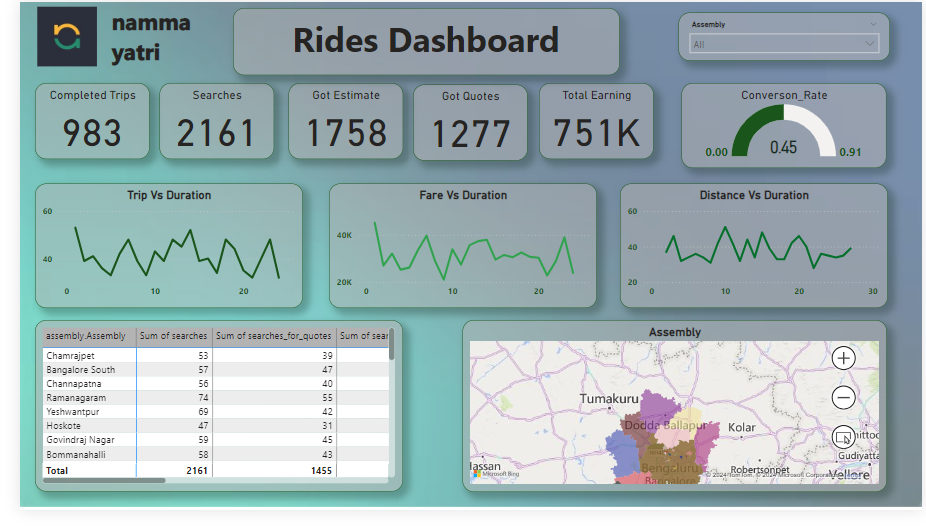

The page's visual inventory and layout, read from the dashboard file:
{"tool":"powerbi","page":{"name":"Page 1","canvas":[1280,720],"ordinal":0},"visuals":[{"type":"card","title":"Completed Trips","fields":{"Values":["Sum(trip_details.end_ride)"]},"box":[20.3,115.7,162.6,107.8],"z":0},{"type":"card","title":"Got Quotes","fields":{"Values":["Sum(trip_details.searches_got_quotes)"]},"box":[558,117.2,162.6,107.8],"z":1000},{"type":"card","title":"Got Estimate","fields":{"Values":["Sum(trip_details.searches_got_estimate)"]},"box":[379.8,115.7,162.6,107.8],"z":2000},{"type":"card","title":"Searches","fields":{"Values":["Sum(trip_details.searches)"]},"box":[198.5,115.7,162.6,107.8],"z":3000},{"type":"card","title":"Total Earning","fields":{"Values":["Sum(trips.fare)"]},"box":[736.2,115.7,162.6,107.8],"z":4000},{"type":"gauge","fields":{"Y":["trip_details.Converson_Rate"]},"box":[939.4,115.7,290.7,120.4],"z":5000},{"type":"lineChart","title":"Trip Vs Duration","fields":{"Category":["trips.duration"],"Y":["CountNonNull(trips.tripid)"]},"box":[20.3,257.9,379.8,176.6],"z":6000},{"type":"lineChart","title":"Fare Vs Duration","fields":{"Category":["trips.duration"],"Y":["Sum(trips.fare)"]},"box":[437.6,257.9,379.8,176.6],"z":7000},{"type":"lineChart","title":"Distance Vs Duration","fields":{"Category":["trips.distance"],"Y":["CountNonNull(trips.duration)"]},"box":[850.3,257.9,379.8,176.6],"z":8000},{"type":"pivotTable","fields":{"Rows":["Merge2.assembly.Assembly"],"Values":["Sum(Merge2.searches)","Sum(Merge2.searches_for_quotes)","Sum(Merge2.searches_got_quotes)","Sum(Merge2.searches_got_estimate)","Sum(Merge2.trips.fare)","Sum(Merge2.trips.distance)","trip_details.Converson_Rate"]},"box":[21.7,451.7,521.7,243.3],"z":9000},{"type":"filledMap","fields":{"Category":["assembly.Assembly"]},"box":[628.3,451.7,601.8,243.8],"z":10000},{"type":"slicer","fields":{"Values":["assembly.Assembly"]},"box":[935,15,300,68.3],"z":11000},{"type":"image","box":[20,0,95,98.3],"z":12000},{"type":"textbox","box":[20,0,261.7,110],"z":13000},{"type":"textbox","box":[301.7,8.3,548.3,95],"z":13001}]}

Visuals, with their boxes in screenshot pixels (x1, y1, x2, y2), scaled from the page's 1280x720 canvas onto the 926x528 screenshot:
"Completed Trips" card: left=15, top=85, right=132, bottom=164
"Got Quotes" card: left=404, top=86, right=521, bottom=165
"Got Estimate" card: left=275, top=85, right=392, bottom=164
"Searches" card: left=144, top=85, right=261, bottom=164
"Total Earning" card: left=533, top=85, right=650, bottom=164
gauge - trip_details.Converson_Rate: left=680, top=85, right=890, bottom=173
"Trip Vs Duration" lineChart: left=15, top=189, right=289, bottom=319
"Fare Vs Duration" lineChart: left=317, top=189, right=591, bottom=319
"Distance Vs Duration" lineChart: left=615, top=189, right=890, bottom=319
pivotTable - Merge2.assembly.Assembly x Sum(Merge2.searches): left=16, top=331, right=393, bottom=510
filledMap - assembly.Assembly: left=455, top=331, right=890, bottom=510
slicer - assembly.Assembly: left=676, top=11, right=893, bottom=61
image: left=14, top=0, right=83, bottom=72
textbox: left=14, top=0, right=204, bottom=81
textbox: left=218, top=6, right=615, bottom=76
